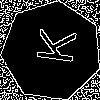K: (27, 26, 77, 65)
